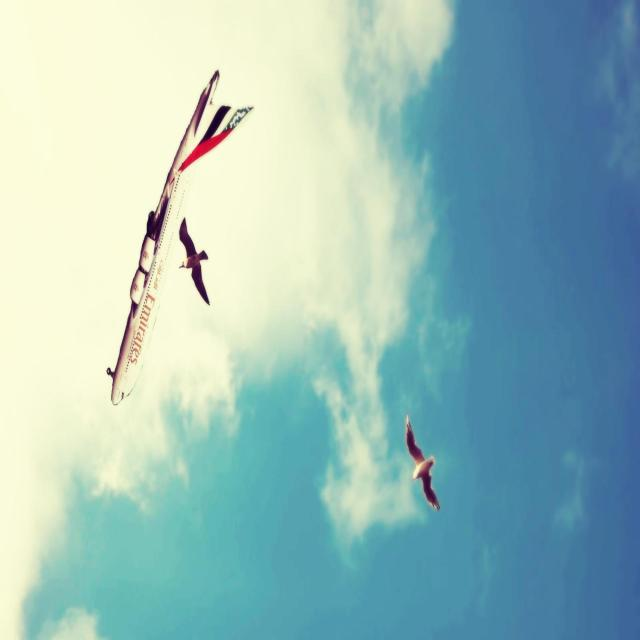airplane: (106, 68, 254, 406)
